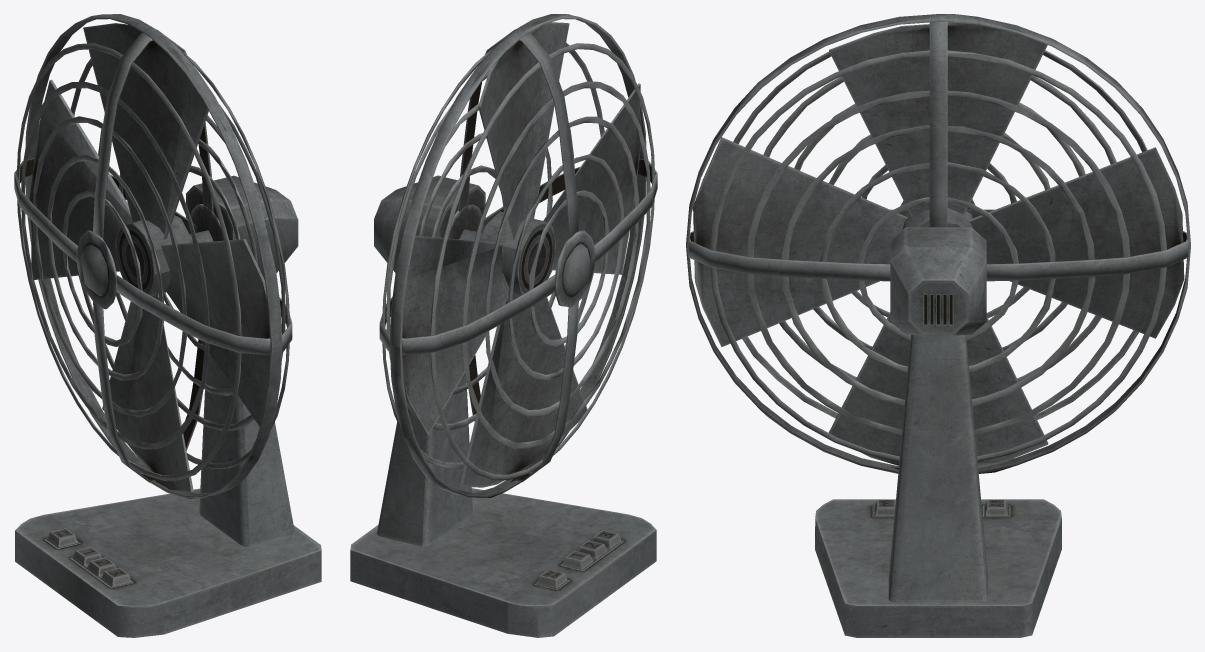
File: deskfan_prop.fbx
3 renders of one model, left to right at view 1: azimuth 30°, elevation 25°; view 2: azimuth 150°, elevation 25°; view 3: azimuth 270°, elevation 25°, orthographic. The views are drawn at different scales.
Visible parts, largest first — view 1: deskfan_prop; view 2: deskfan_prop; view 3: deskfan_prop.
Boxes of the visible parts, x1,y1,x2,y2 form: deskfan_prop: (14, 14, 321, 637); deskfan_prop: (350, 14, 657, 637); deskfan_prop: (686, 14, 1190, 637).
Size of the model in its own units: 22.12 by 53.44 by 43.63.
